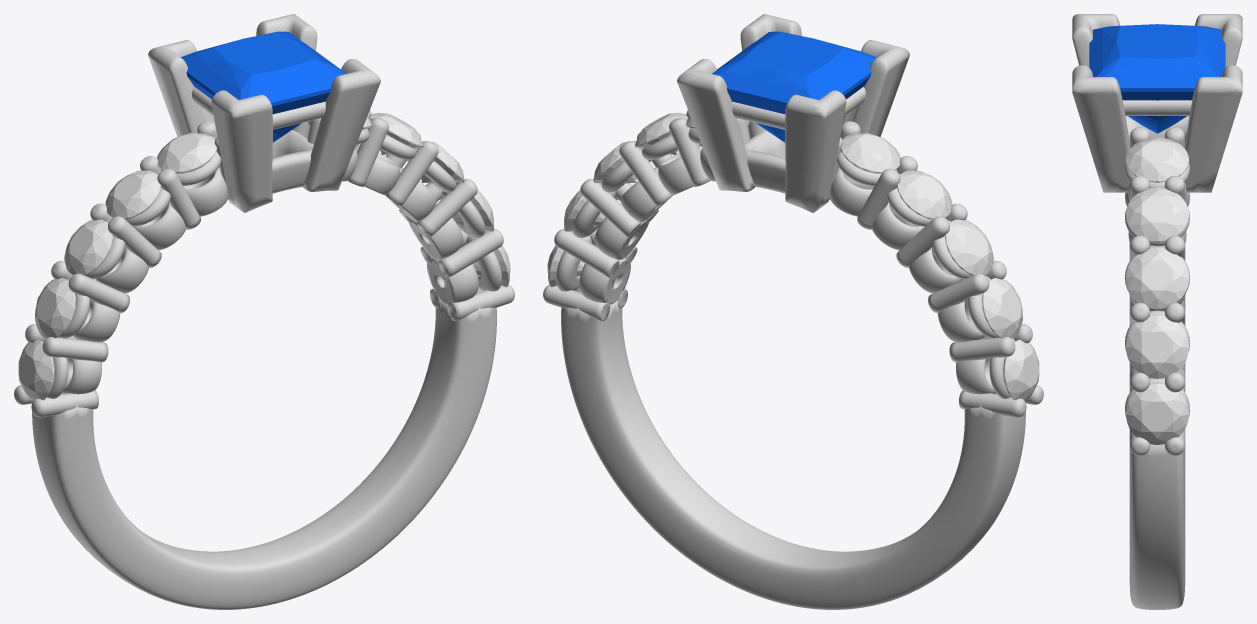
File: bluesapphire-princess-platinum-protectededges4prongs-straightband-11stone.glb
3 renders of one model, left to right at view 1: azimuth 30°, elevation 25°; view 2: azimuth 150°, elevation 25°; view 3: azimuth 270°, elevation 25°, orthographic.
Visible parts, largest first — view 1: metal, stone, side.004, side.005, side.001, side.006, side, side.008; view 2: metal, stone, side.004, side.005, side.001, side.006, side, side.008; view 3: metal, stone, side.003, side.009, side.002, side.008, side.007.
Part boxes in pixels (x1,y1,x2,y2): metal: [14, 14, 514, 609]; stone: [181, 31, 345, 142]; side.004: [64, 219, 112, 275]; side.005: [105, 170, 160, 219]; side.001: [35, 278, 75, 338]; side.006: [157, 133, 217, 173]; side: [18, 339, 54, 400]; side.008: [369, 112, 422, 155]; metal: [543, 14, 1043, 609]; stone: [712, 31, 876, 142]; side.004: [945, 219, 993, 275]; side.005: [897, 170, 952, 219]; side.001: [982, 278, 1022, 338]; side.006: [840, 133, 900, 173]; side: [1003, 339, 1039, 400]; side.008: [635, 112, 688, 155]; metal: [1072, 14, 1242, 609]; stone: [1089, 24, 1225, 133]; side.003: [1126, 316, 1188, 378]; side.009: [1126, 248, 1188, 308]; side.002: [1126, 383, 1188, 444]; side.008: [1126, 187, 1188, 242]; side.007: [1126, 137, 1188, 182].
Size of the model in its own units: 22 by 23.86 by 6.77.
